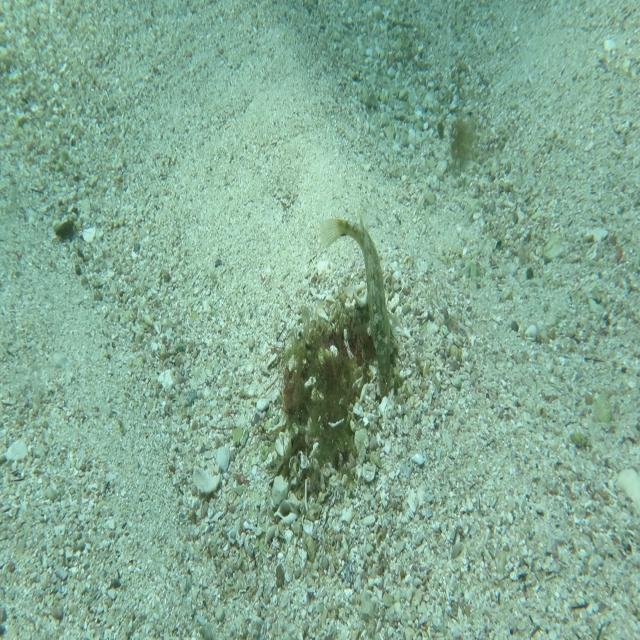NIP_IN: (318, 212, 402, 385)
core_nest: (337, 315, 377, 356)
nest: (270, 284, 406, 516)
vegetation: (449, 114, 474, 171), (54, 216, 77, 243)
